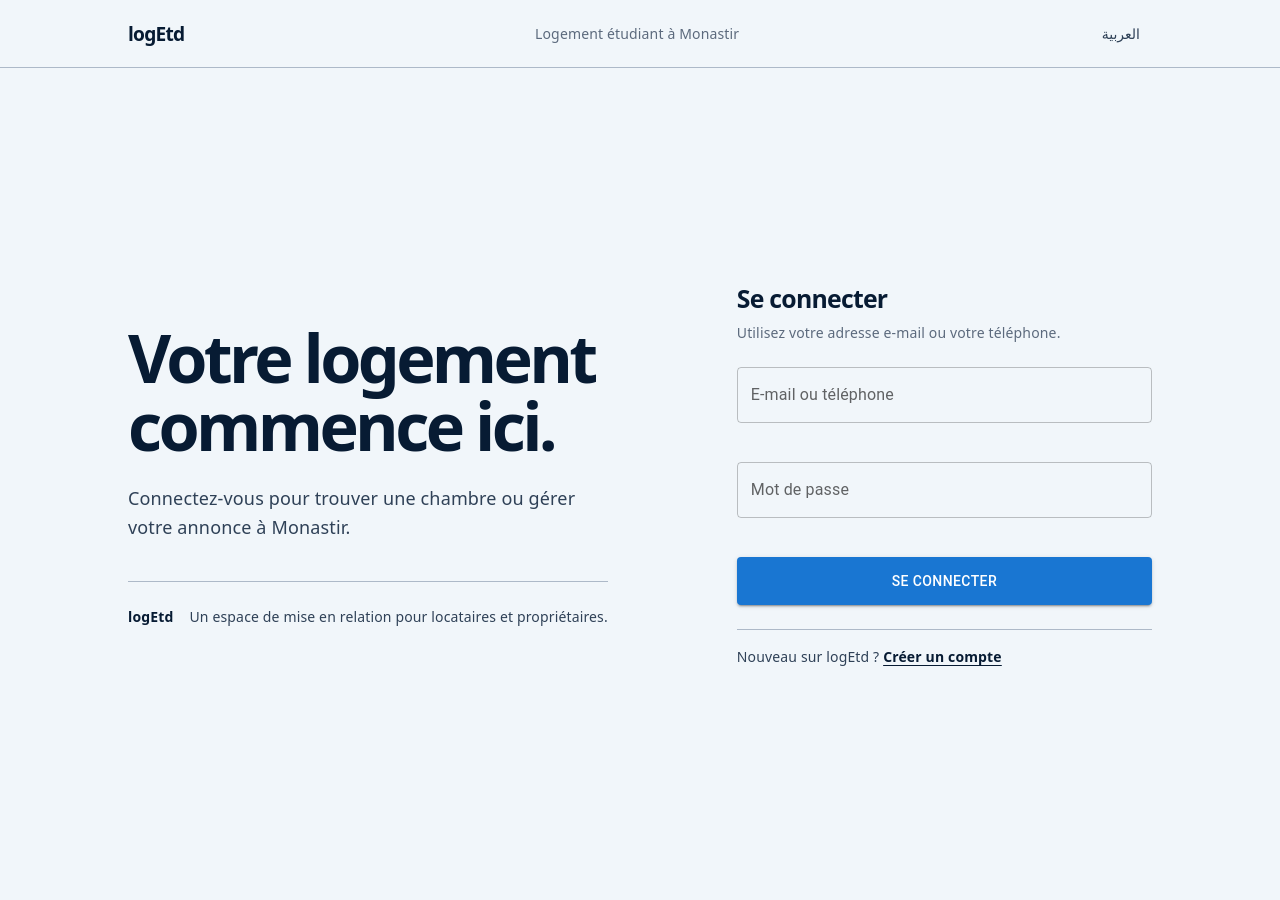
F1 authentication › shows field validation without making an API request
Click the button "Se connecter": (944, 581) [737,557,1152,605]
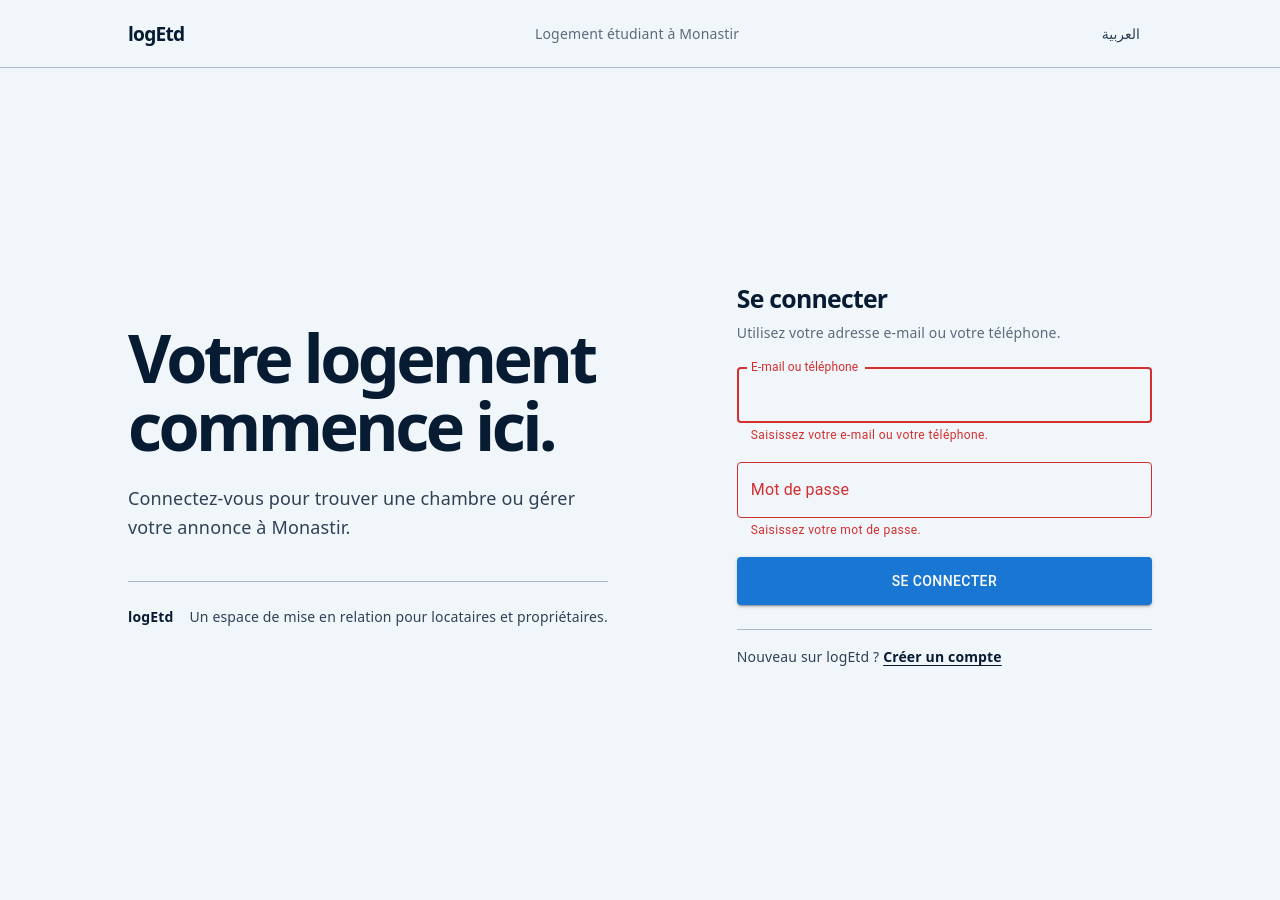
Now the text "Saisissez votre e-mail ou votre téléphone." is shown, box [751,428,988,442]
